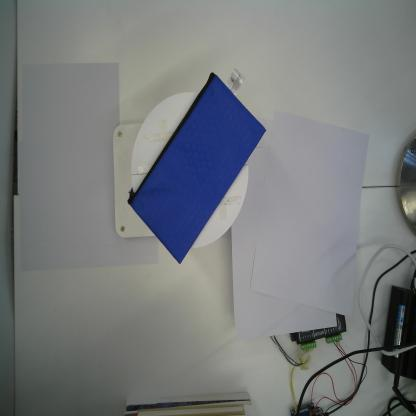Stationery: (125, 66, 269, 266)
